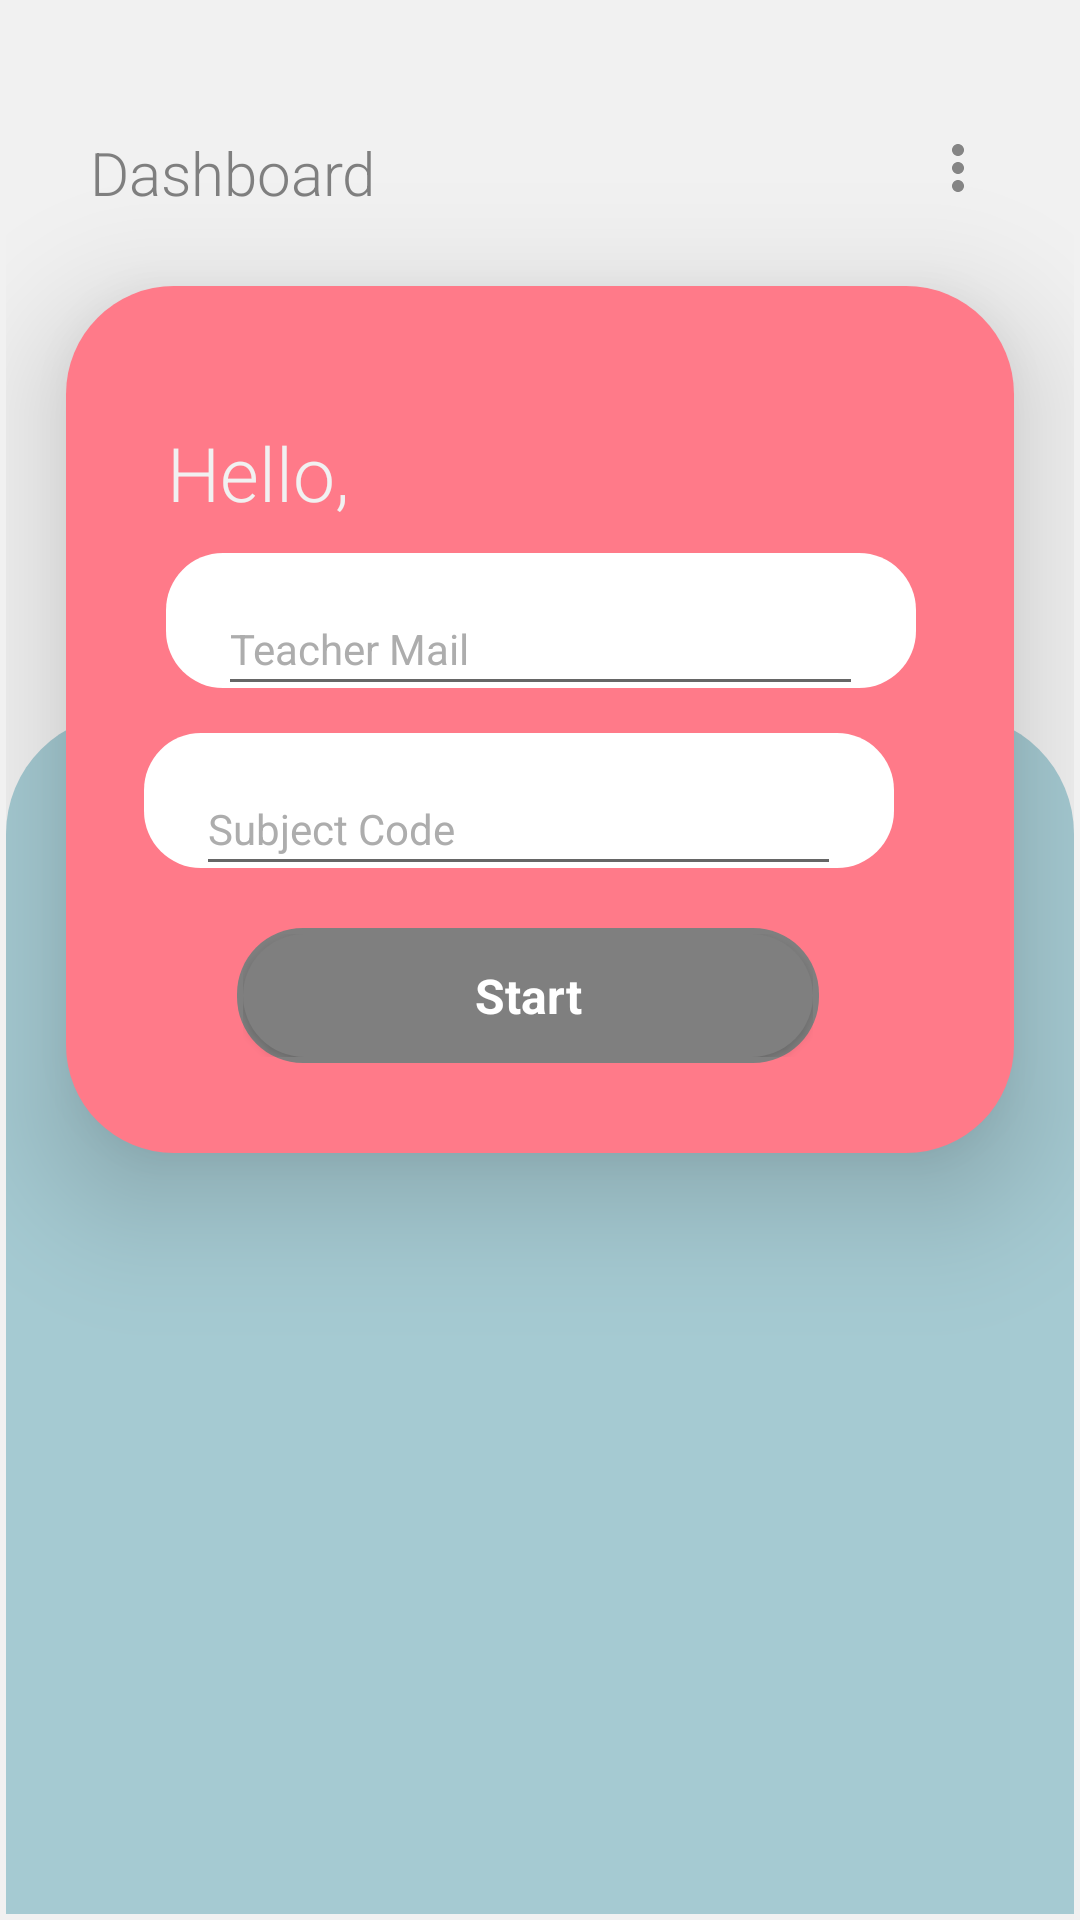

Point at icon controls on the screen. Image size 1080×1920, points as point (x, y).
more vert: point (958, 168)
